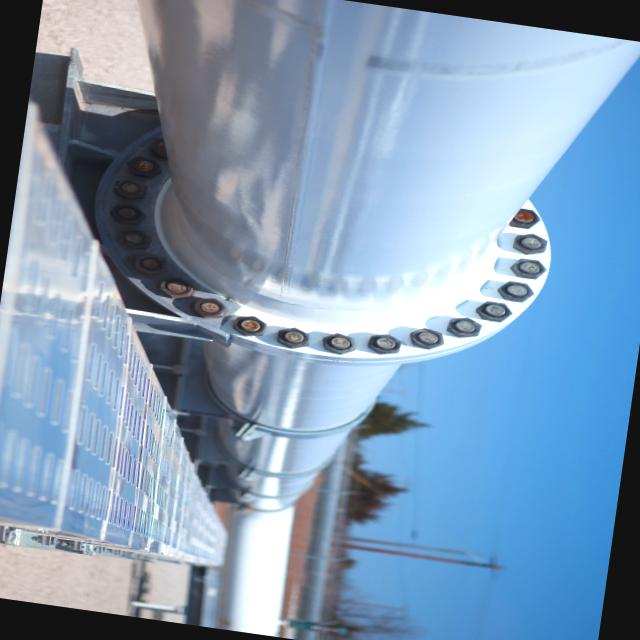gas: (151, 0, 640, 511), (216, 509, 289, 636)
